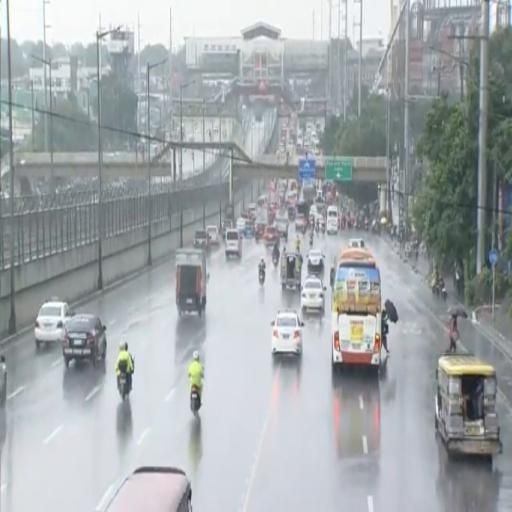bus: (331, 248, 384, 371)
car: (101, 467, 192, 511), (63, 314, 106, 367), (35, 299, 72, 348), (271, 311, 303, 355), (301, 276, 326, 312), (225, 230, 242, 260), (307, 249, 324, 273), (0, 356, 7, 408), (194, 230, 209, 250), (275, 217, 288, 239), (264, 227, 279, 245), (207, 226, 220, 245), (221, 219, 233, 238), (255, 221, 266, 241), (295, 214, 307, 231), (244, 219, 254, 237), (236, 217, 245, 235), (349, 238, 365, 248)
jeepney: (435, 354, 501, 456)
motorcycle: (117, 362, 131, 399), (118, 373, 130, 399), (191, 386, 200, 414), (258, 268, 266, 285), (272, 252, 279, 267), (441, 285, 447, 302), (364, 220, 370, 231), (310, 232, 313, 246), (316, 222, 319, 232), (322, 223, 325, 233)
truck: (176, 249, 208, 316)
